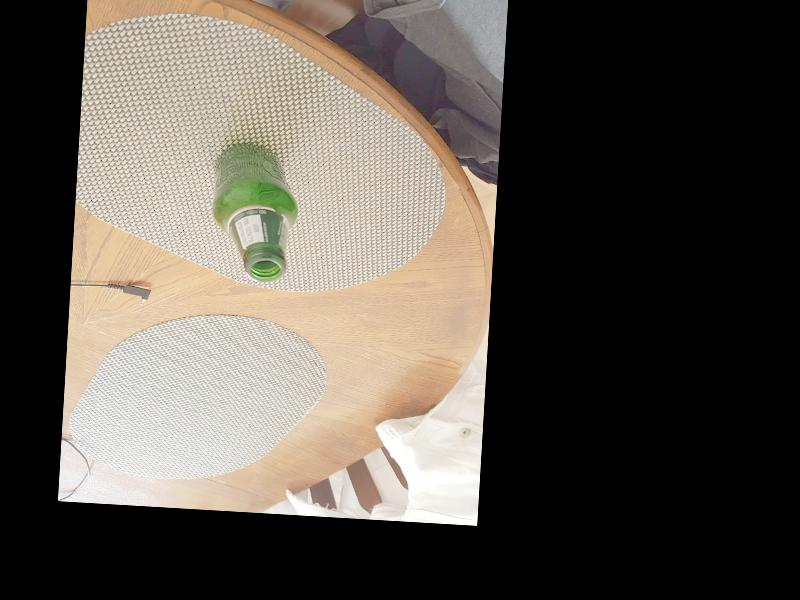Beer: (209, 140, 302, 282)
